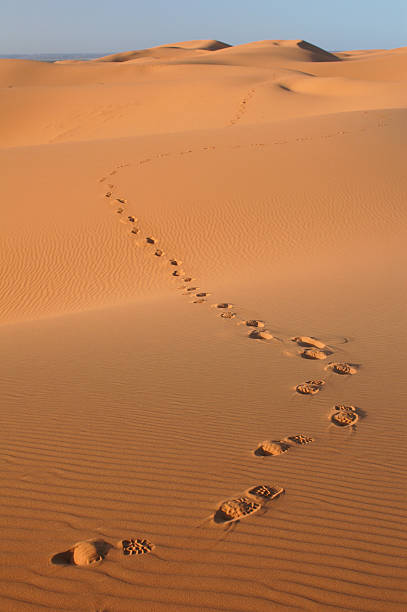human_foot_print: (210, 484, 284, 526), (51, 538, 154, 566), (172, 268, 212, 306), (295, 324, 326, 366), (254, 434, 313, 456), (242, 317, 274, 352), (330, 404, 364, 429), (210, 304, 240, 322), (138, 235, 166, 252), (295, 379, 324, 394), (326, 362, 359, 375)
